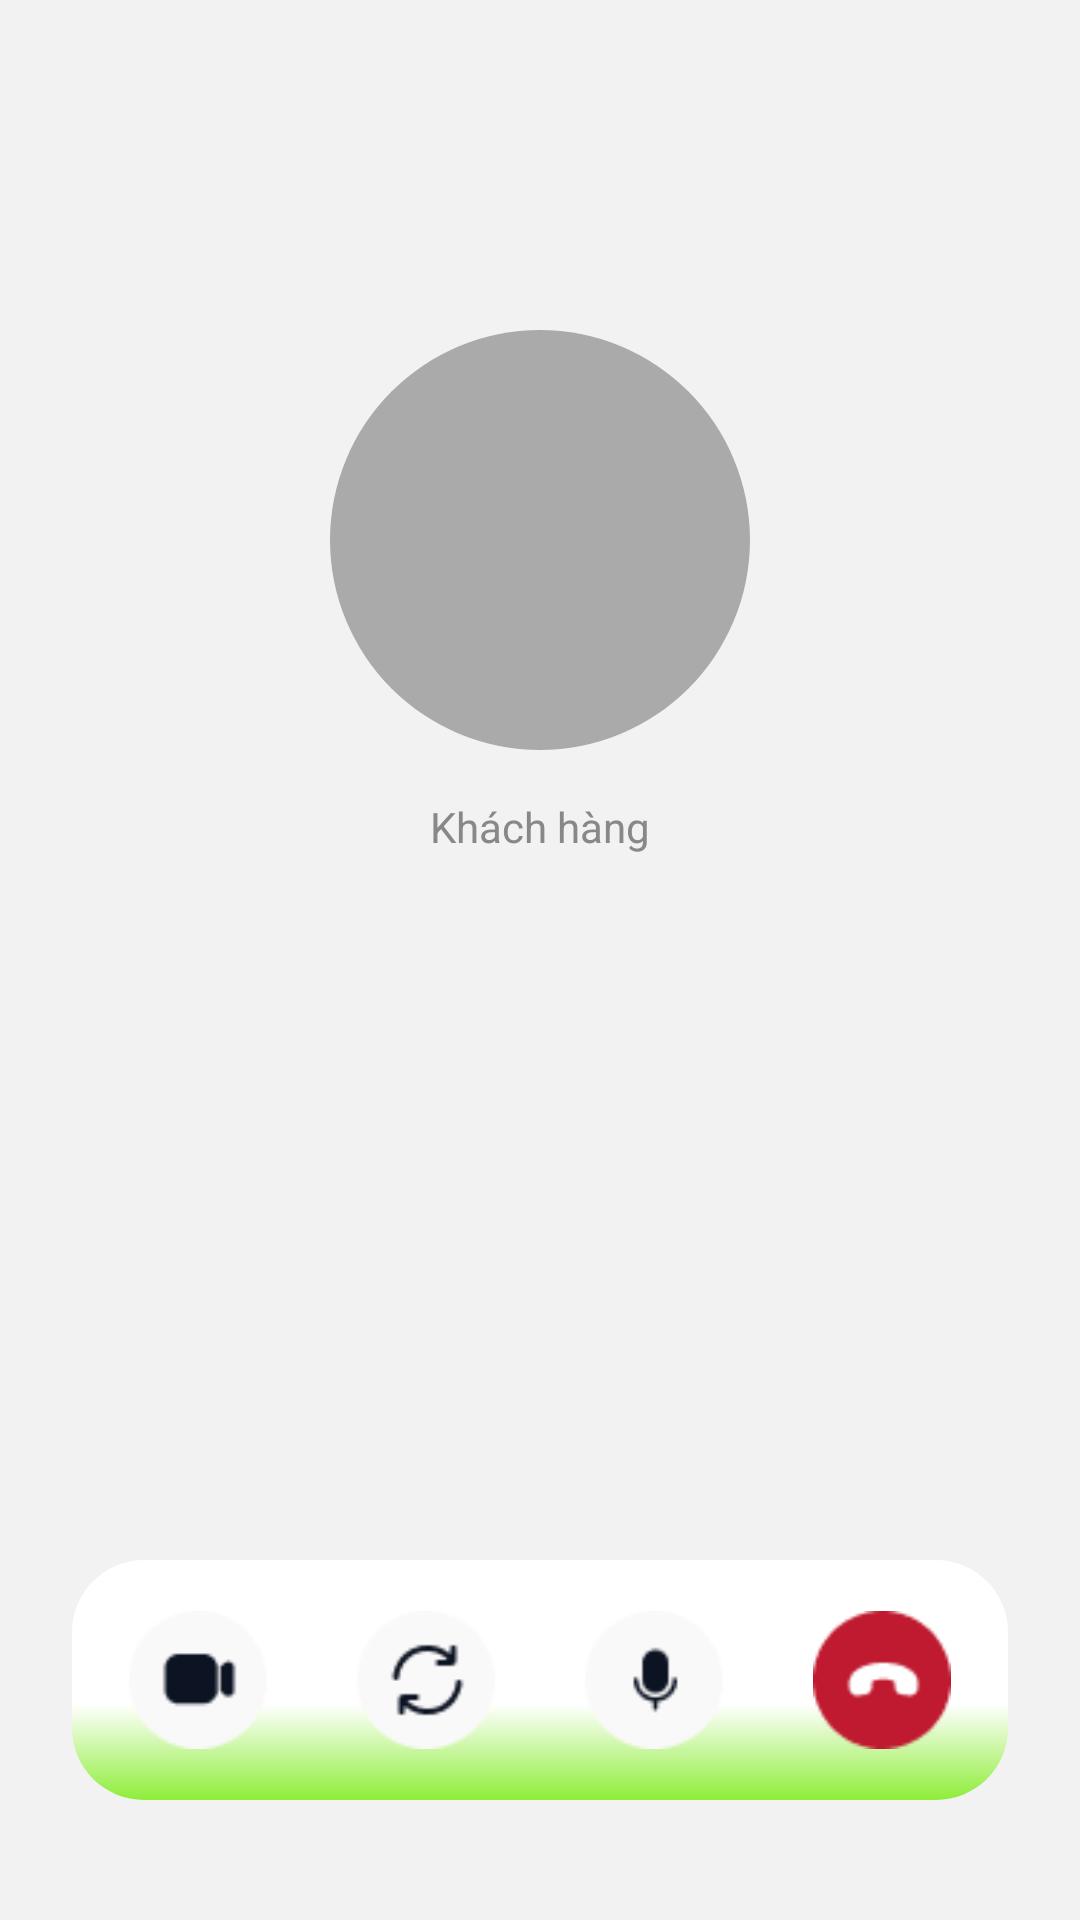

Named icons in this screenshot (1080*1920) and their bounding boxes, detection(x1, y1, x2, y2):
vqd facetime: detection(102, 1653, 294, 1755)
vqd ghiam: detection(558, 1647, 750, 1755)
vqd reloadcuocgoi: detection(330, 1644, 522, 1755)
vqd tatgoi: detection(786, 1611, 978, 1755)
